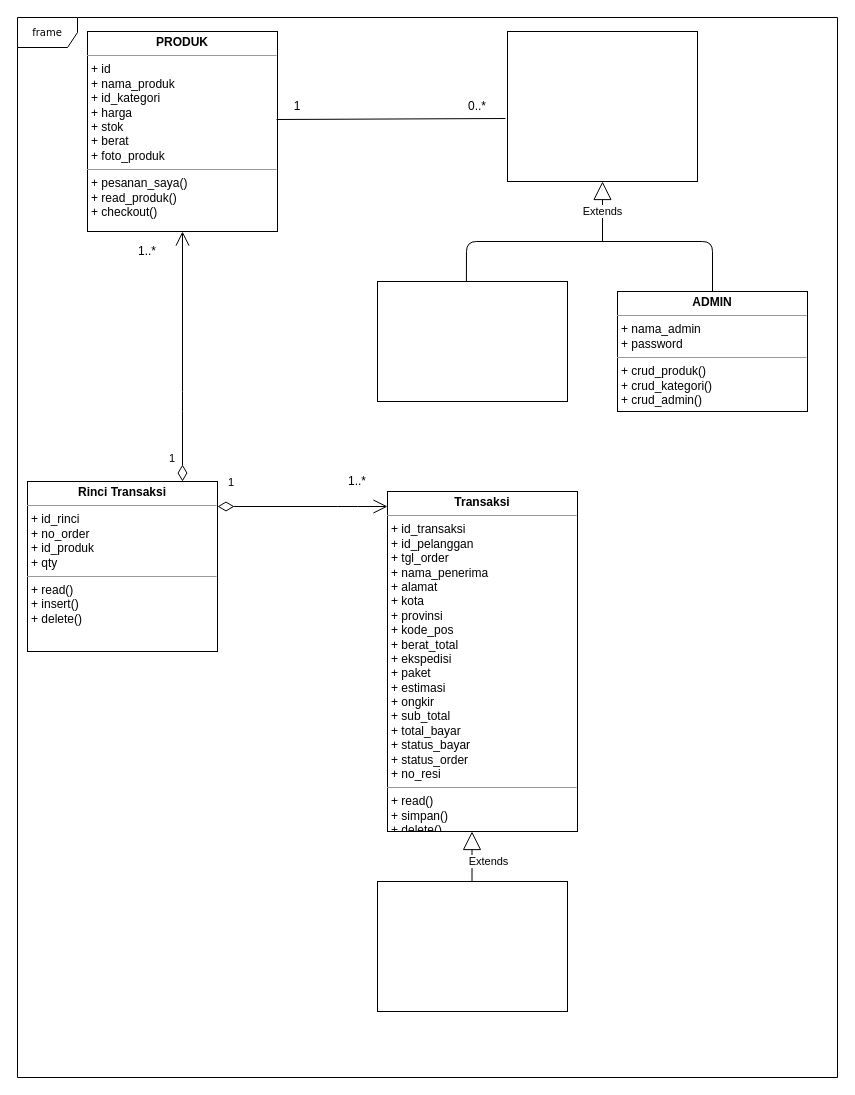
Image size: 855x1095. Some labels were removed from this diagram. Here are the shapes that lost their labels. From the top down, the box of each, then its label:
(506, 30, 698, 182): LOGIN + id + email + password + login() + logout()
(376, 280, 568, 402): PELANGGAN + nama_pelanggan + foto_pelanggan + no_hp + alamat + read()
(376, 880, 568, 1012): Transfer + atas_nama + nama_bank + no_rek + bukti_bayar
